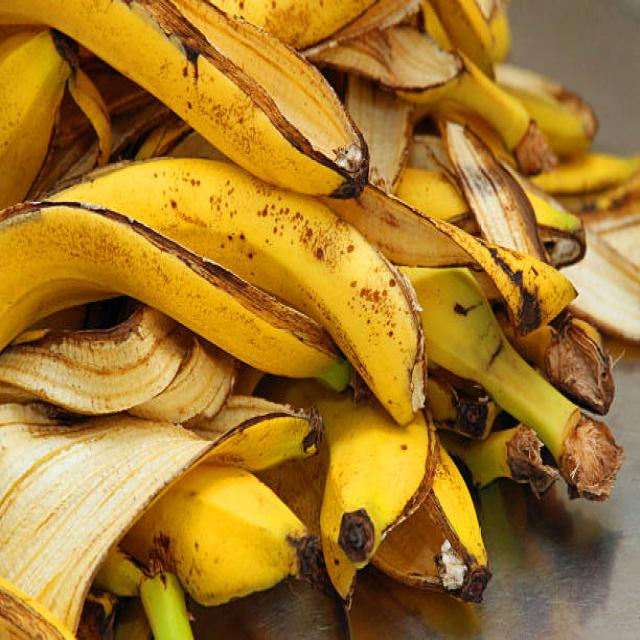banana_peel: (30, 162, 501, 556)
